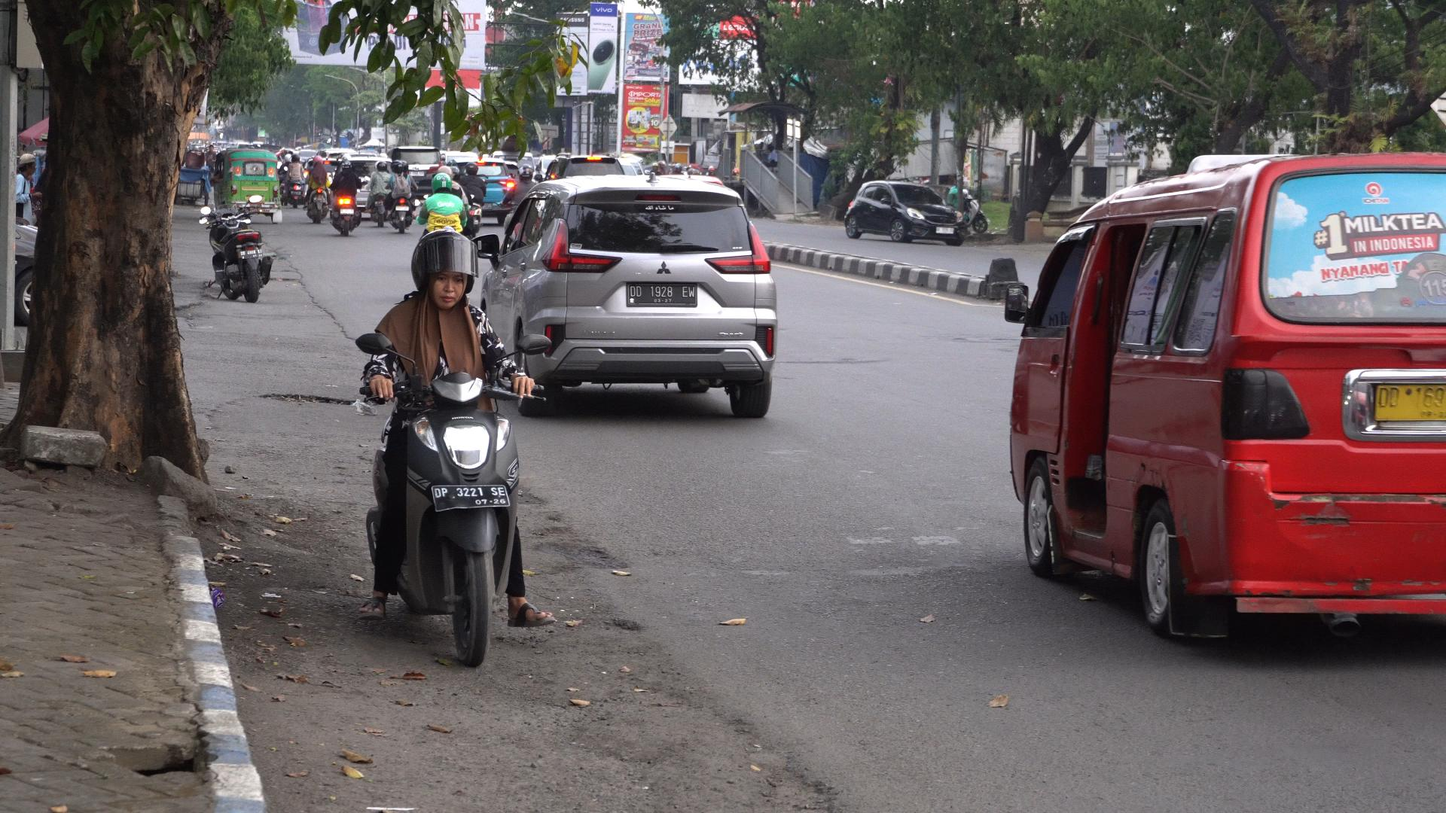number-plate: (427, 483, 512, 515)
